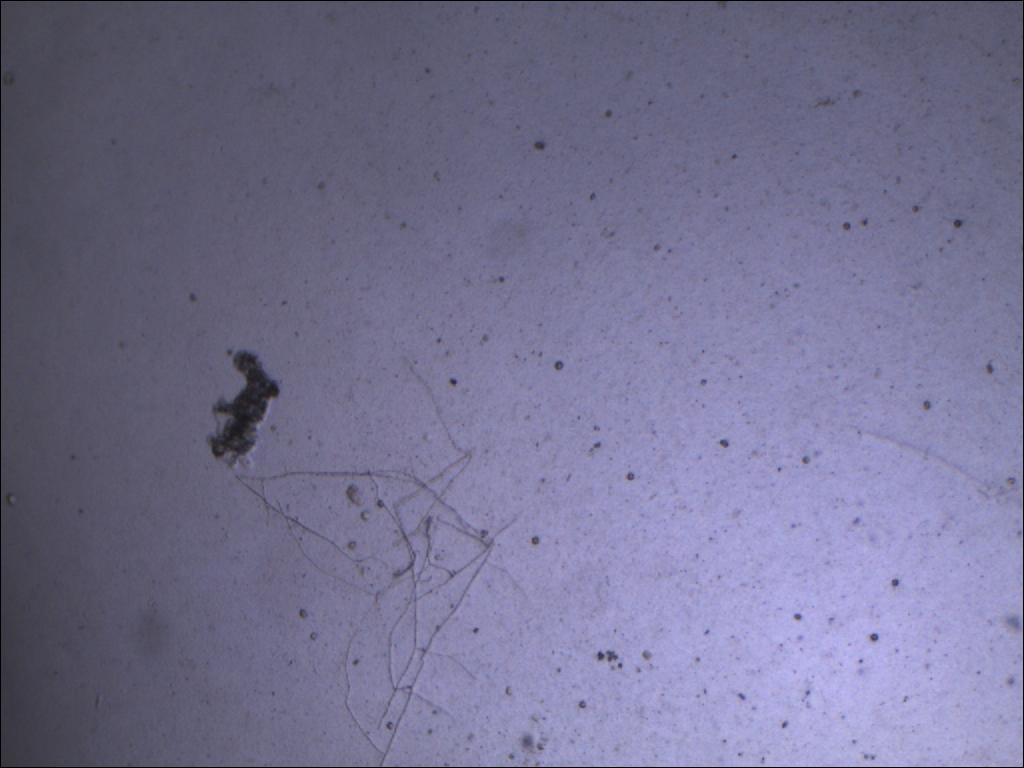amoeba: (191, 338, 296, 485)
